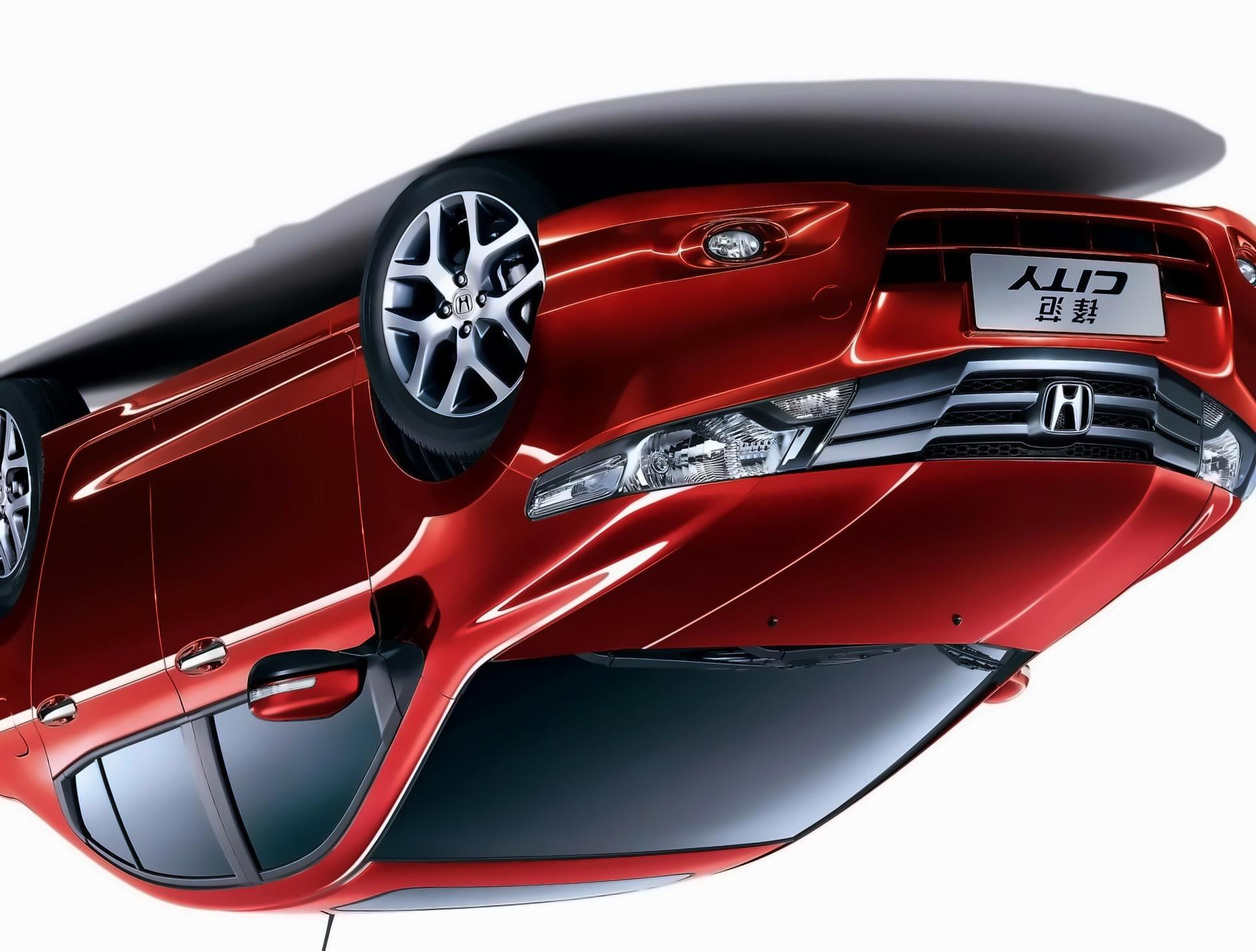Car hood: (464, 440, 1225, 682)
Fender - -F-L-: (340, 384, 559, 702)
Front bumper: (539, 175, 1256, 436)
Headlight - -L-: (516, 372, 864, 519)
Headlight - -R-: (1187, 402, 1256, 512)
Passenger-s door - -F-L-: (142, 244, 395, 940)
Passenger-s door - -R-L-: (12, 330, 265, 924)
Side bumper - -L-: (38, 274, 367, 598)
Side mirror - -L-: (243, 639, 392, 722)
